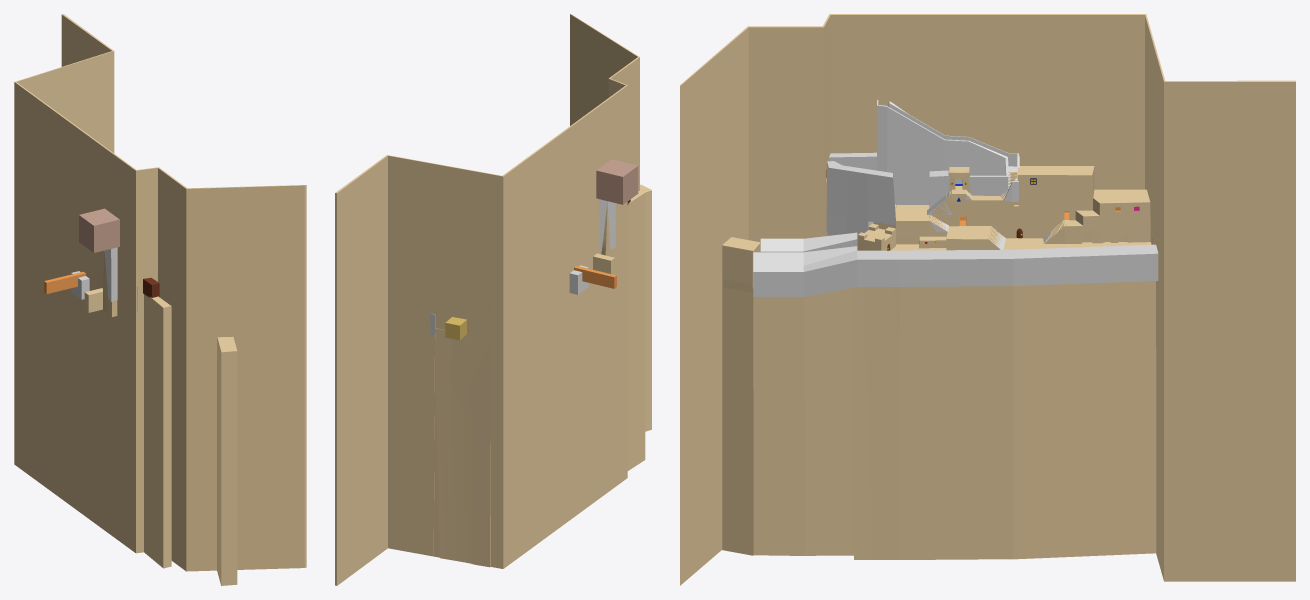
The model's file is beigeroom.fbx.
3 views of the same model, side by side, from view 1: azimuth 30°, elevation 25°; view 2: azimuth 150°, elevation 25°; view 3: azimuth 270°, elevation 25° (orthographic). The views are drawn at different scales.
Parts seen in each view (by area): view 1: backwall, exit_1, entry, roomcatcher_2, bounds_7, Cube.001, stairs_6, stairs_11; view 2: backwall, floor_1, exit_1, entry, roomcatcher_2, bounds_7, Cube.001, roomcatcher_3; view 3: backwall, blocker, bounds_6, stairs_6, bounds_7, bounds_4, building_1, bounds_5, blocker_2, floor_1, entry, castle (+1 smaller).
Part boxes in pixels (x1,y1,x2,y2): backwall: (14,14,306,571); exit_1: (144,294,171,568); entry: (217,336,237,585); roomcatcher_2: (79,208,119,252); bounds_7: (104,247,117,301); Cube.001: (44,271,85,294); stairs_6: (84,288,102,312); stairs_11: (103,251,117,316); backwall: (335,14,639,585); floor_1: (435,328,490,567); exit_1: (627,190,645,470); entry: (640,184,651,431); roomcatcher_2: (596,159,638,204); bounds_7: (599,199,615,251); Cube.001: (574,266,616,288); roomcatcher_3: (445,317,466,340); backwall: (680,14,1295,585); blocker: (723,248,1156,559); bounds_6: (753,244,1158,296); stairs_6: (896,166,1094,238); bounds_7: (877,100,1019,204); bounds_4: (826,161,896,242); building_1: (1064,189,1150,243); bounds_5: (760,232,857,252); blocker_2: (826,182,947,250); floor_1: (1003,238,1151,249); entry: (722,237,760,555); castle: (858,223,895,250).
Bounding box in the file's own units: 19441 × 46595 × 51977.
